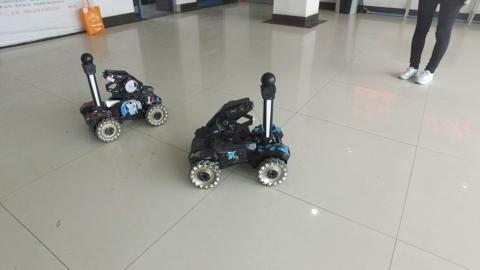chariot: (179, 69, 296, 195), (77, 48, 170, 147)
